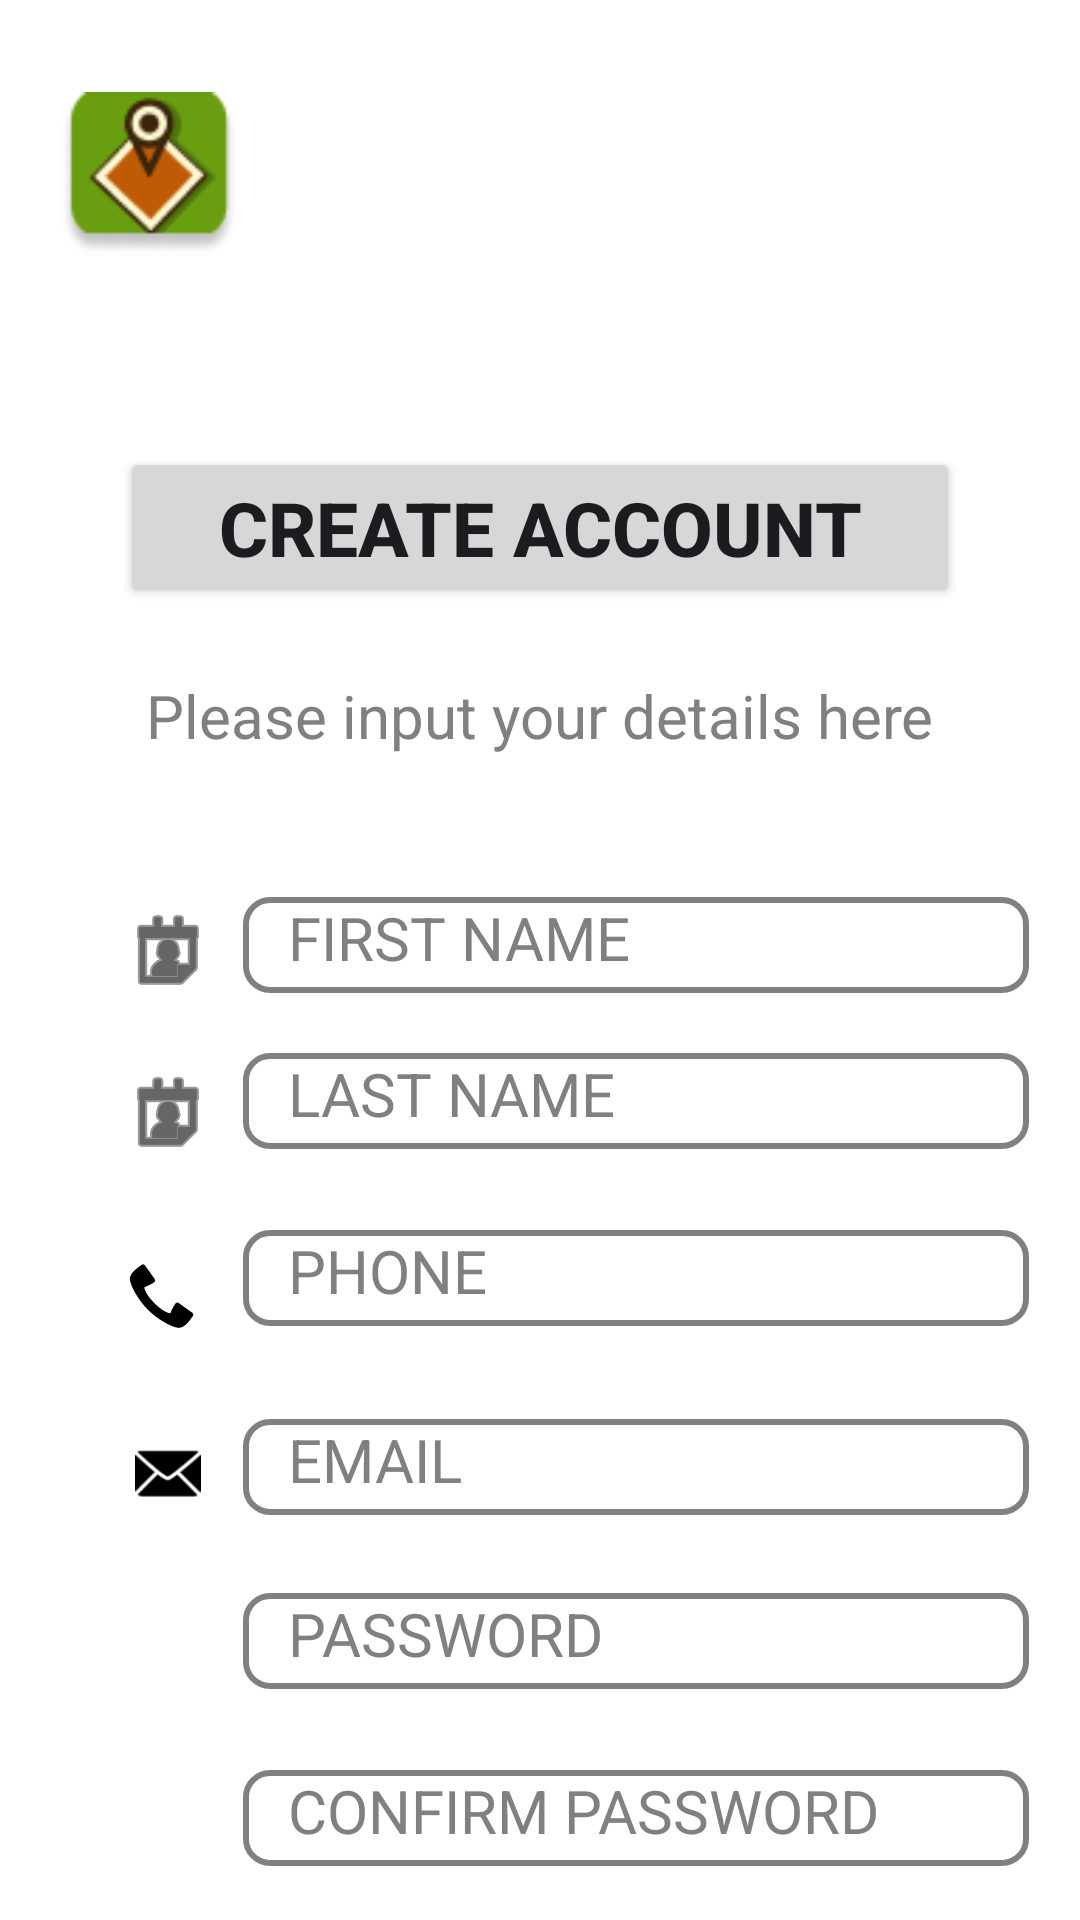

Locate icon controls on the screen. Image size 1080x1920, boxes as box(x1, y1, x2, y2).
calendar: box(137, 915, 199, 985), box(137, 1077, 199, 1147)
